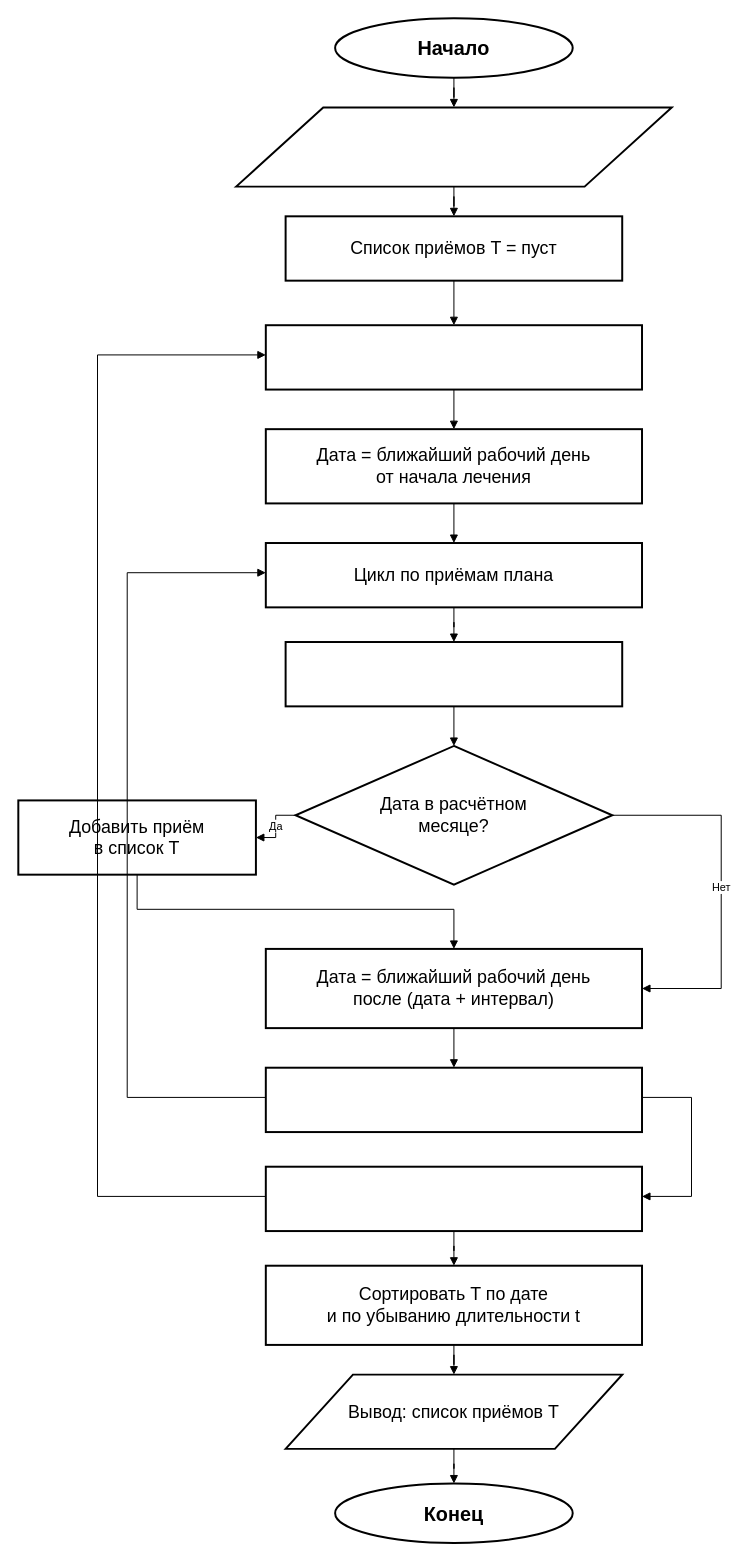
Some shapes in this 747 by 1560 pixel diagram are drawn without their labels. The shapes that lost their labels are listed below. From the top down, each one's centre as x and y in pixels, then its label:
At (x=453, y=146): "Ввод: планы лечения, прейскурант, расчётный месяц, праздники".
At (x=453, y=357): "Цикл по планам лечения".
At (x=453, y=674): "t = (Σ N × q + 15) / 60".
At (x=453, y=1099): "Конец цикла по приёмам плана".
At (x=453, y=1198): "Конец цикла по планам".
